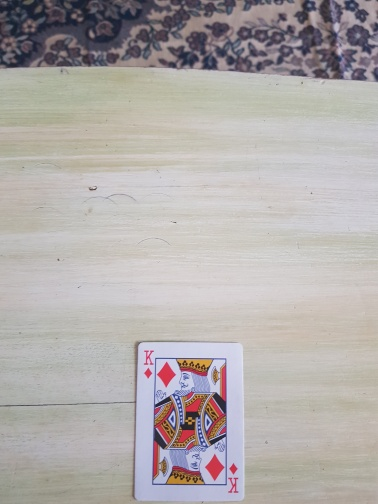king: (135, 342, 246, 501)
